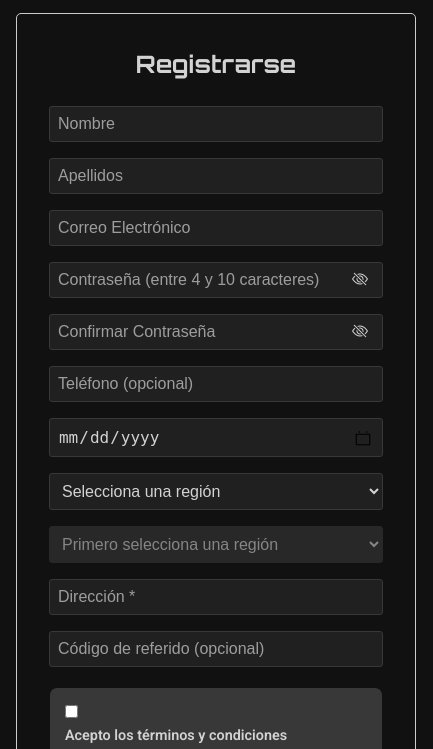
Test: Register › Debería mostrar error cuando el email está vacío
The image size is (433, 749).
Type "Juan" into the field with placeholder "Nombre" at (216, 124), box [49,106,383,142]
(page scrolled)
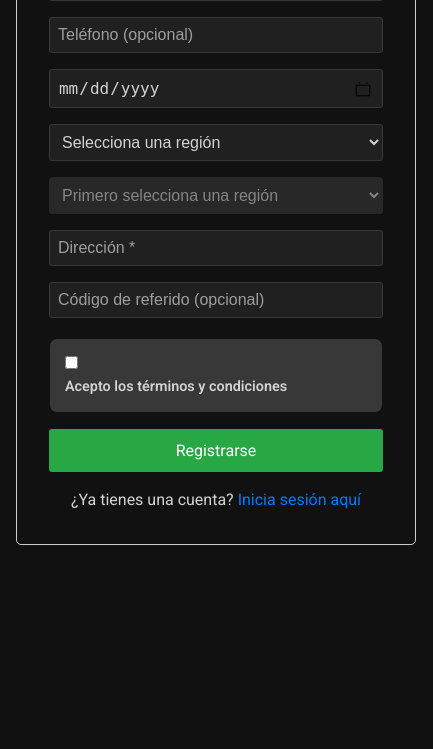
Click the button "Registrarse" at (216, 450), box [49,429,383,472]
(page scrolled)
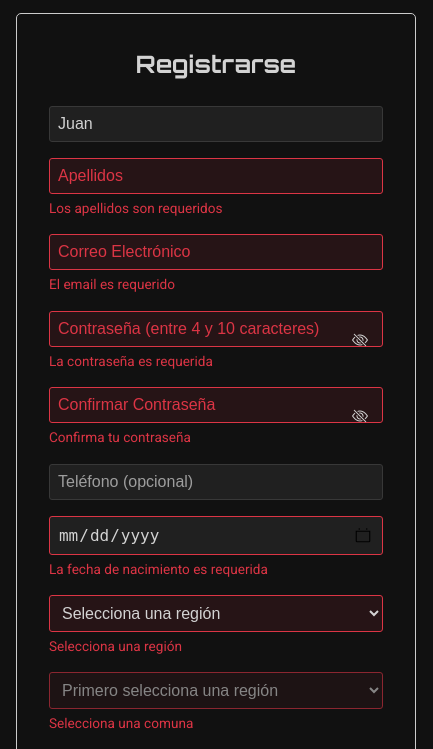
Result: the text "El email es requerido" is shown at [49,276,175,292]
